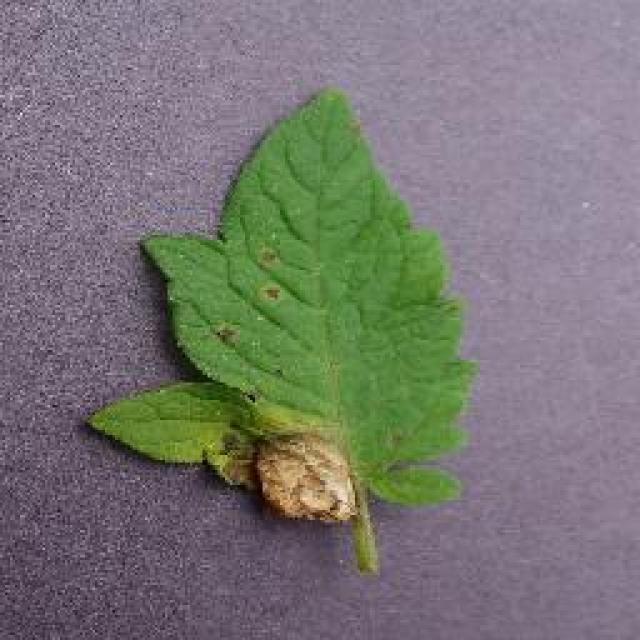Tomato target spot leaf: (87, 91, 485, 529)
